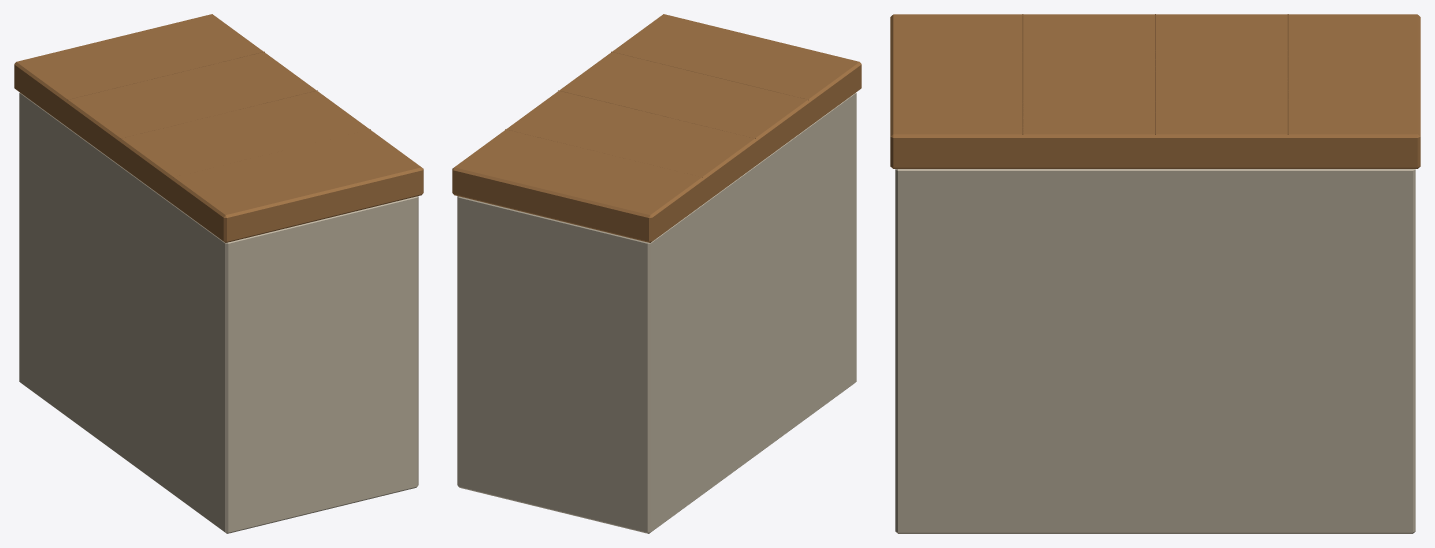
The model's file is perch_seat.glb.
3 views of the same model, side by side, from view 1: azimuth 30°, elevation 25°; view 2: azimuth 150°, elevation 25°; view 3: azimuth 270°, elevation 25° (orthographic). The views are drawn at different scales.
Parts seen in each view (by area): view 1: body; view 2: body; view 3: body.
Part boxes in pixels (x1,y1,x2,y2): body: (14, 14, 423, 533); body: (452, 14, 861, 533); body: (890, 14, 1420, 533).
Bounding box in the file's own units: 0.3 × 0.46 × 0.55.
